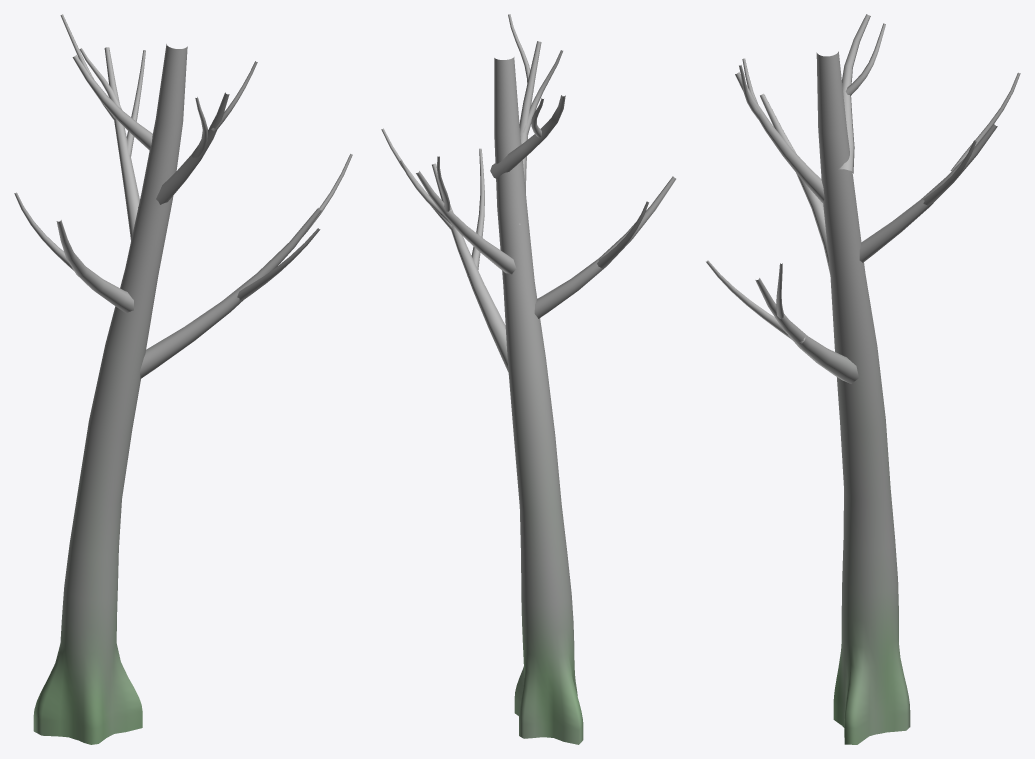
The model's file is jungleC_bark_lod0.glb.
The picture shows the model from 3 angles, left to right: view 1: azimuth 30°, elevation 25°; view 2: azimuth 150°, elevation 25°; view 3: azimuth 270°, elevation 25°; orthographic projection. The views are drawn at different scales.
Parts seen in each view (by area): view 1: jungleC; view 2: jungleC; view 3: jungleC.
Boxes of the visible parts, x1,y1,x2,y2 form: jungleC: (14, 14, 352, 744); jungleC: (381, 14, 675, 744); jungleC: (706, 14, 1020, 744).
Size of the model in its own units: 10.27 by 21.67 by 8.69.
